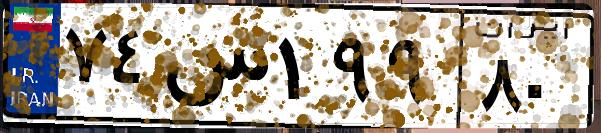0: (525, 38, 570, 115)
1: (270, 28, 330, 110)
4: (110, 28, 158, 98)
7: (57, 26, 110, 100)
8: (475, 38, 525, 113)
9: (385, 28, 445, 110), (330, 28, 385, 110)
س: (158, 20, 270, 120)
